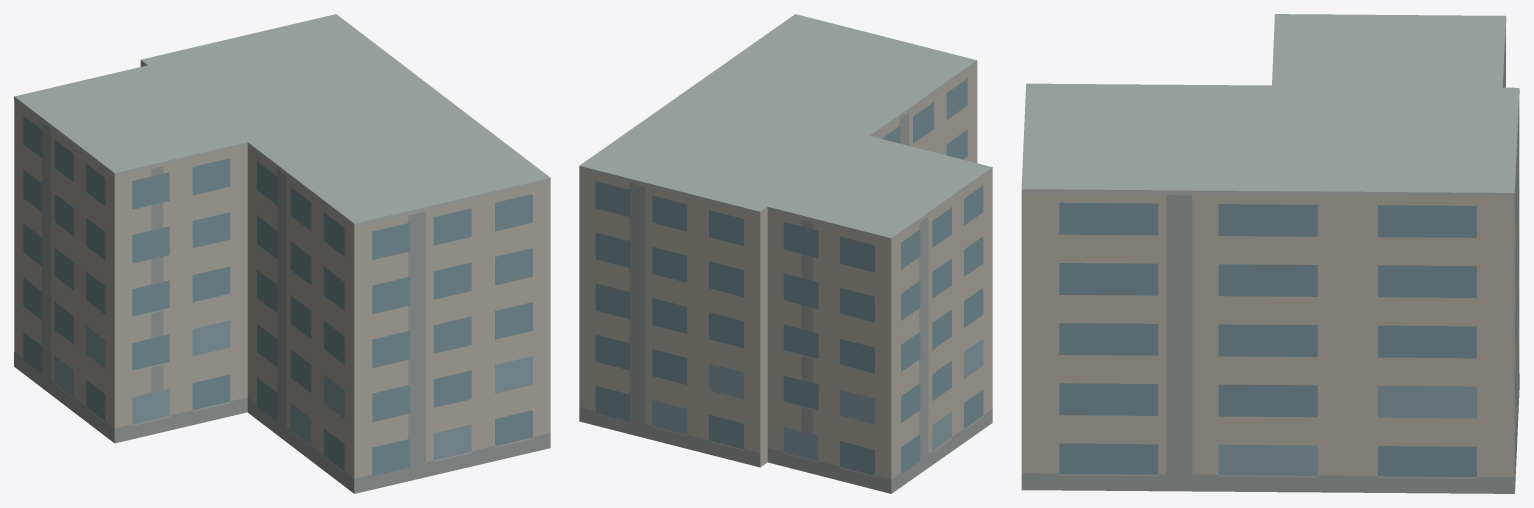
File: residential-e7649bdc-e55b-4be4-8df3-d006f63119a5.glb
The picture shows the model from 3 angles, left to right: view 1: azimuth 30°, elevation 25°; view 2: azimuth 150°, elevation 25°; view 3: azimuth 270°, elevation 25°; orthographic projection. The views are drawn at different scales.
Visible parts, largest first — view 1: residential-e7649bdc-e55b-4be4-8df3-d006f63119a5.tmp; view 2: residential-e7649bdc-e55b-4be4-8df3-d006f63119a5.tmp; view 3: residential-e7649bdc-e55b-4be4-8df3-d006f63119a5.tmp.
Part boxes in pixels (x1,y1,x2,y2): residential-e7649bdc-e55b-4be4-8df3-d006f63119a5.tmp: [14, 14, 550, 493]; residential-e7649bdc-e55b-4be4-8df3-d006f63119a5.tmp: [579, 14, 992, 493]; residential-e7649bdc-e55b-4be4-8df3-d006f63119a5.tmp: [1021, 14, 1519, 493].
Size of the model in its own units: 19.46 by 15.25 by 22.88.
